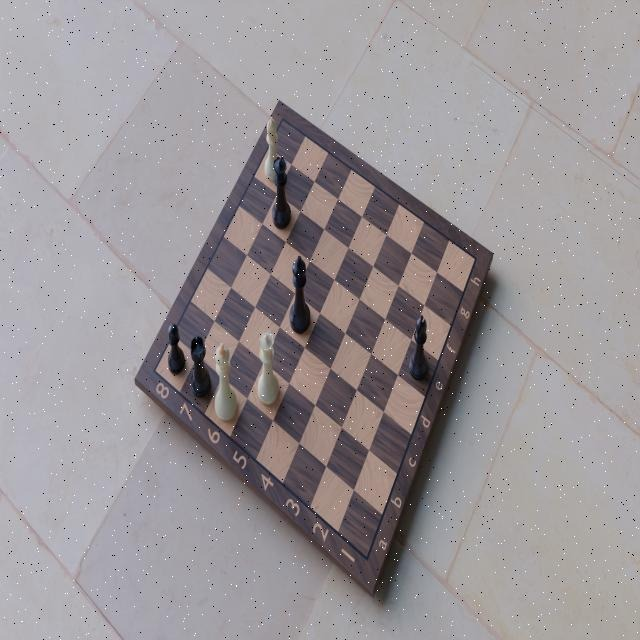black-bishop: (409, 315, 430, 385)
black-king: (288, 251, 312, 336)
black-pawn: (164, 322, 187, 374)
black-queen: (271, 155, 293, 233)
black-rook: (189, 335, 211, 400)
white-bishop: (262, 116, 282, 184)
white-king: (214, 339, 238, 424)
white-queen: (255, 327, 280, 409)
